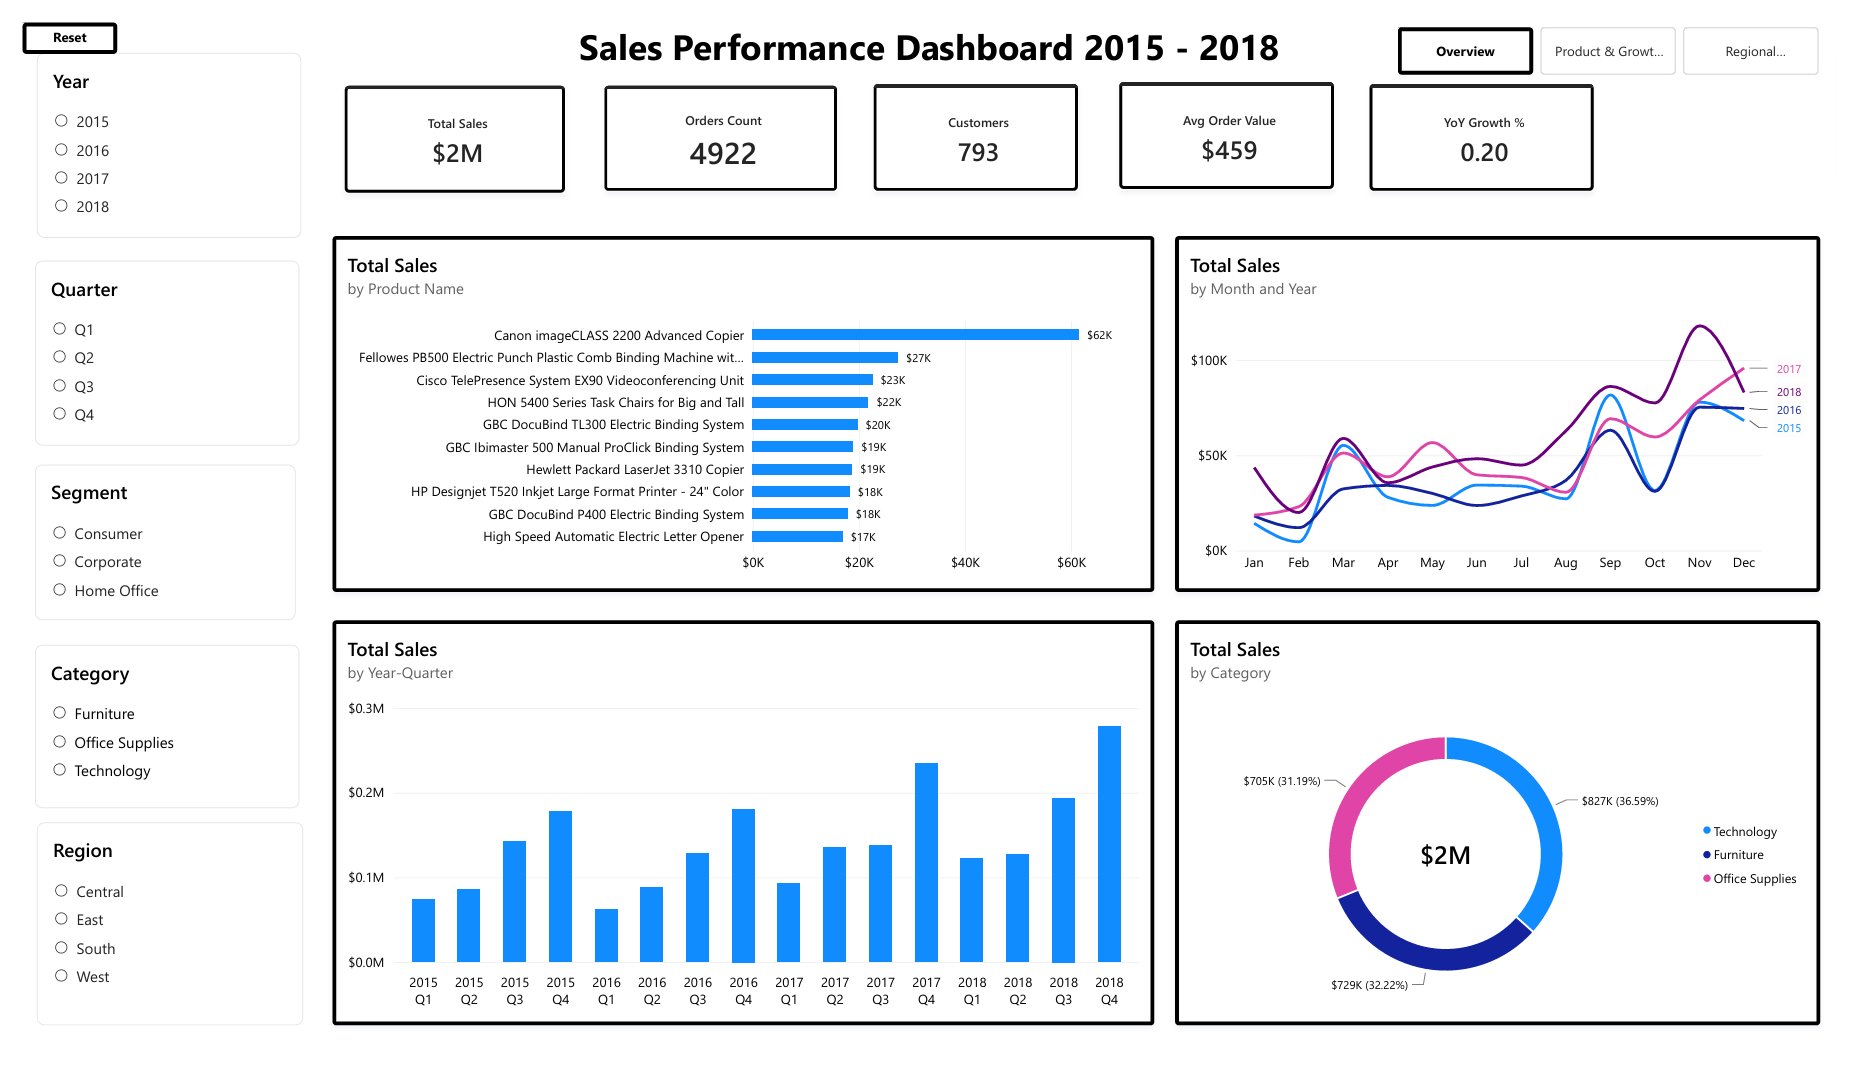

The dashboard page shown, as its layout file describes it:
{"tool":"powerbi","page":{"name":"Overview","canvas":[1920,1080],"ordinal":0},"visuals":[{"type":"textbox","box":[328.4,0,1263.2,65.3],"z":0},{"type":"cardVisual","fields":{"Data":["_Measures.Orders Count"]},"box":[615.8,67.2,246.3,112],"z":1000},{"type":"cardVisual","fields":{"Data":["_Measures.Customers"]},"box":[901.2,65.3,216.8,113.8],"z":2000},{"type":"cardVisual","fields":{"Data":["_Measures.Avg Order Value"]},"box":[1160.6,63.4,227.6,113.8],"z":3000},{"type":"cardVisual","fields":{"Data":["_Measures.YoY Growth %"]},"box":[1425.6,65.3,237.1,113.8],"z":4000},{"type":"lineChart","fields":{"Category":["Calendar.Month"],"Series":["Calendar.Year"],"Y":["_Measures.Total Sales"]},"box":[1220.3,225.8,682.9,376.9],"z":5000},{"type":"clusteredColumnChart","fields":{"Category":["Orders.Year-Quarter"],"Y":["_Measures.Total Sales"]},"box":[328.4,632.6,869.5,429.2],"z":6000},{"type":"clusteredBarChart","fields":{"Category":["Orders.Product Name"],"Y":["_Measures.Total Sales"]},"box":[328.4,225.8,869.5,376.9],"z":7000},{"type":"donutChart","fields":{"Category":["Orders.Category"],"Y":["_Measures.Total Sales"]},"box":[1220.3,632.6,682.9,429.2],"z":8000},{"type":"cardVisual","fields":{"Data":["_Measures.Total Sales"]},"box":[341.5,67.2,233.1,113.8],"z":9000},{"type":"listSlicer","fields":{"Values":["Calendar.Year"]},"box":[14.9,31.7,279.9,195.9],"z":10000},{"type":"listSlicer","fields":{"Values":["Calendar.Quarter"]},"box":[13.1,251.9,279.9,195.9],"z":11000},{"type":"listSlicer","fields":{"Values":["Orders.Category"]},"box":[13.1,658.7,279.9,173.5],"z":12000},{"type":"listSlicer","fields":{"Values":["Orders.Region"]},"box":[14.9,847.1,281.8,214.6],"z":13000},{"type":"listSlicer","fields":{"Values":["Orders.Segment"]},"box":[13.1,468.4,276.2,164.2],"z":14000},{"type":"actionButton","box":[0,0,100,32.7],"z":15000},{"type":"pageNavigator","box":[1456.4,5.5,447.3,50.9],"z":16000}]}

Visuals, with their boxes in screenshot pixels (x1, y1, x2, y2), scaled from the page's 1920x1080 canvas onto the 1857x1066 screenshot:
textbox: [left=318, top=0, right=1539, bottom=64]
cardVisual - _Measures.Orders Count: [left=596, top=66, right=834, bottom=177]
cardVisual - _Measures.Customers: [left=872, top=64, right=1081, bottom=177]
cardVisual - _Measures.Avg Order Value: [left=1123, top=63, right=1343, bottom=175]
cardVisual - _Measures.YoY Growth %: [left=1379, top=64, right=1608, bottom=177]
lineChart - Calendar.Month x Calendar.Year: [left=1180, top=223, right=1841, bottom=595]
clusteredColumnChart - Orders.Year-Quarter x _Measures.Total Sales: [left=318, top=624, right=1159, bottom=1048]
clusteredBarChart - Orders.Product Name x _Measures.Total Sales: [left=318, top=223, right=1159, bottom=595]
donutChart - Orders.Category x _Measures.Total Sales: [left=1180, top=624, right=1841, bottom=1048]
cardVisual - _Measures.Total Sales: [left=330, top=66, right=556, bottom=179]
listSlicer - Calendar.Year: [left=14, top=31, right=285, bottom=225]
listSlicer - Calendar.Quarter: [left=13, top=249, right=283, bottom=442]
listSlicer - Orders.Category: [left=13, top=650, right=283, bottom=821]
listSlicer - Orders.Region: [left=14, top=836, right=287, bottom=1048]
listSlicer - Orders.Segment: [left=13, top=462, right=280, bottom=624]
actionButton: [left=0, top=0, right=97, bottom=32]
pageNavigator: [left=1409, top=5, right=1841, bottom=56]
